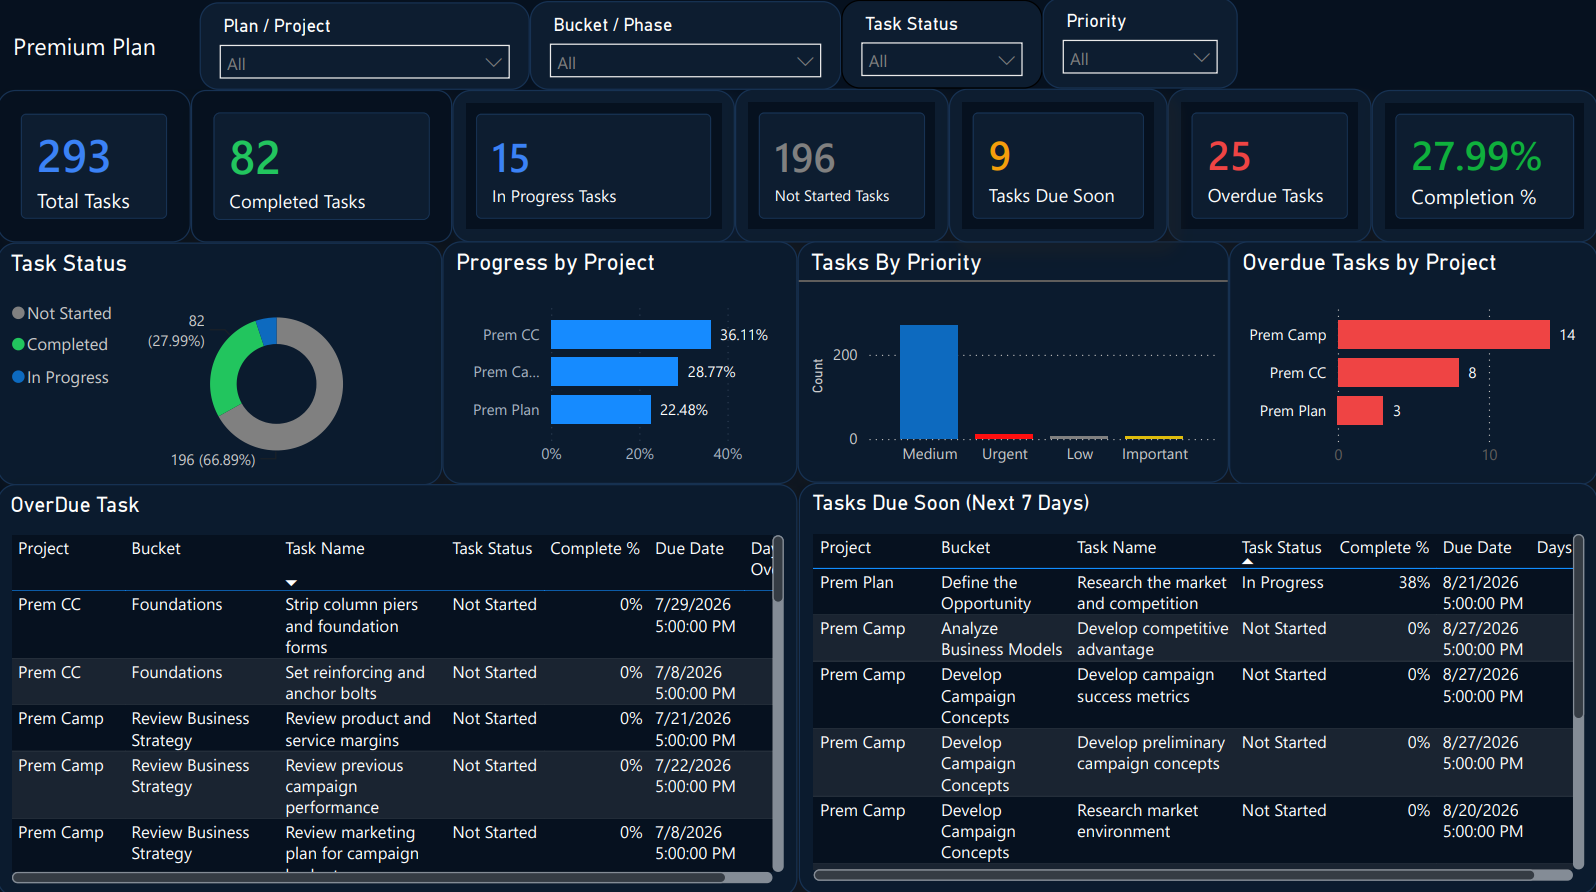

The dashboard page shown, as its layout file describes it:
{"tool":"powerbi","page":{"name":"Premium Plan","canvas":[1280,720],"ordinal":1},"visuals":[{"type":"cardVisual","title":"a","fields":{"Data":["msdyn_projecttask.Premium Total Tasks"]},"box":[0,74.8,154.7,122.2],"z":0},{"type":"cardVisual","fields":{"Data":["msdyn_projecttask.Premium Completed Tasks"]},"box":[154.7,74.8,209.3,122.2],"z":1000},{"type":"cardVisual","fields":{"Data":["msdyn_projecttask.Premium In Progress Tasks"]},"box":[364,74.8,225.6,122.2],"z":2000},{"type":"cardVisual","fields":{"Data":["msdyn_projecttask.Premium Not Started Tasks"]},"box":[589.6,74.1,171.6,122.9],"z":3000},{"type":"cardVisual","fields":{"Data":["msdyn_projecttask.Premium Overdue Tasks"]},"box":[936.1,74.1,163.2,122.9],"z":4000},{"type":"cardVisual","fields":{"Data":["msdyn_projecttask.Premium Completion %"]},"box":[1099.3,74.8,180.7,122.2],"z":5000},{"type":"donutChart","title":"Task Status","fields":{"Category":["msdyn_projecttask.Premium Task Status"],"Y":["CountNonNull(msdyn_projecttask.Project task ID)"]},"box":[0,197,356.2,194.4],"z":6000},{"type":"clusteredBarChart","title":"Progress by Project","fields":{"Category":["msdyn_project.Name"],"Y":["msdyn_projecttask.Premium Project Completion %"]},"box":[356.3,196,283.8,194.1],"z":7000},{"type":"clusteredColumnChart","title":"Tasks By Priority","fields":{"Category":["msdyn_projecttask.Premium Priority Name"],"Y":["CountNonNull(msdyn_projecttask.Project task ID)"]},"box":[640.1,196,344.6,193.5],"z":8000},{"type":"clusteredBarChart","title":"Overdue Tasks by Project","fields":{"Category":["msdyn_project.Name"],"Y":["msdyn_projecttask.Premium Overdue Tasks"]},"box":[984.8,196,295.5,194.7],"z":9000},{"type":"tableEx","title":"OverDue Task","fields":{"Values":["msdyn_projecttask.Project","msdyn_projecttask.Project Bucket","msdyn_projecttask.Project Task Name","msdyn_projecttask.Premium Task Status","Sum(msdyn_projecttask.% Complete)","msdyn_projecttask.Due Date","msdyn_projecttask.Premium Days Overdue"]},"box":[0,390.4,640.3,329.6],"z":10000},{"type":"cardVisual","fields":{"Data":["msdyn_projecttask.Premium Tasks Due Soon"]},"box":[761.2,74.1,174.9,122.9],"z":11000},{"type":"tableEx","title":"Tasks Due Soon (Next 7 Days)","fields":{"Values":["msdyn_projecttask.Project","msdyn_projecttask.Project Bucket","msdyn_projecttask.Project Task Name","msdyn_projecttask.Premium Task Status","msdyn_projecttask.% Complete","msdyn_projecttask.Due Date","msdyn_projecttask.Days Left"]},"box":[640.1,389.5,639.7,329.6],"z":12000},{"type":"textbox","title":"Project Details","box":[7.7,4.9,154.3,69.1],"z":13000},{"type":"slicer","fields":{"Values":["msdyn_project.Name"]},"box":[162,4.9,264,69.8],"z":14000},{"type":"slicer","fields":{"Values":["msdyn_projecttask.Project Bucket"]},"box":[426,4.2,249.3,70.5],"z":15000},{"type":"slicer","fields":{"Values":["msdyn_projecttask.Premium Task Status"]},"box":[675.3,2.8,160.6,71.2],"z":16000},{"type":"slicer","fields":{"Values":["msdyn_projecttask.Premium Priority Name"]},"box":[835.9,0.7,156,73.5],"z":17000}]}

Visuals, with their boxes in screenshot pixels (x1, y1, x2, y2), scaled from the page's 1280x720 canvas onto the 1596x892 screenshot:
"a" cardVisual: box=[0, 93, 193, 244]
cardVisual - msdyn_projecttask.Premium Completed Tasks: box=[193, 93, 454, 244]
cardVisual - msdyn_projecttask.Premium In Progress Tasks: box=[454, 93, 735, 244]
cardVisual - msdyn_projecttask.Premium Not Started Tasks: box=[735, 92, 949, 244]
cardVisual - msdyn_projecttask.Premium Overdue Tasks: box=[1167, 92, 1371, 244]
cardVisual - msdyn_projecttask.Premium Completion %: box=[1371, 93, 1595, 244]
"Task Status" donutChart: box=[0, 244, 444, 485]
"Progress by Project" clusteredBarChart: box=[444, 243, 798, 483]
"Tasks By Priority" clusteredColumnChart: box=[798, 243, 1228, 483]
"Overdue Tasks by Project" clusteredBarChart: box=[1228, 243, 1595, 484]
"OverDue Task" tableEx: box=[0, 484, 798, 891]
cardVisual - msdyn_projecttask.Premium Tasks Due Soon: box=[949, 92, 1167, 244]
"Tasks Due Soon (Next 7 Days)" tableEx: box=[798, 483, 1595, 891]
"Project Details" textbox: box=[10, 6, 202, 92]
slicer - msdyn_project.Name: box=[202, 6, 531, 93]
slicer - msdyn_projecttask.Project Bucket: box=[531, 5, 842, 93]
slicer - msdyn_projecttask.Premium Task Status: box=[842, 3, 1042, 92]
slicer - msdyn_projecttask.Premium Priority Name: box=[1042, 1, 1237, 92]
